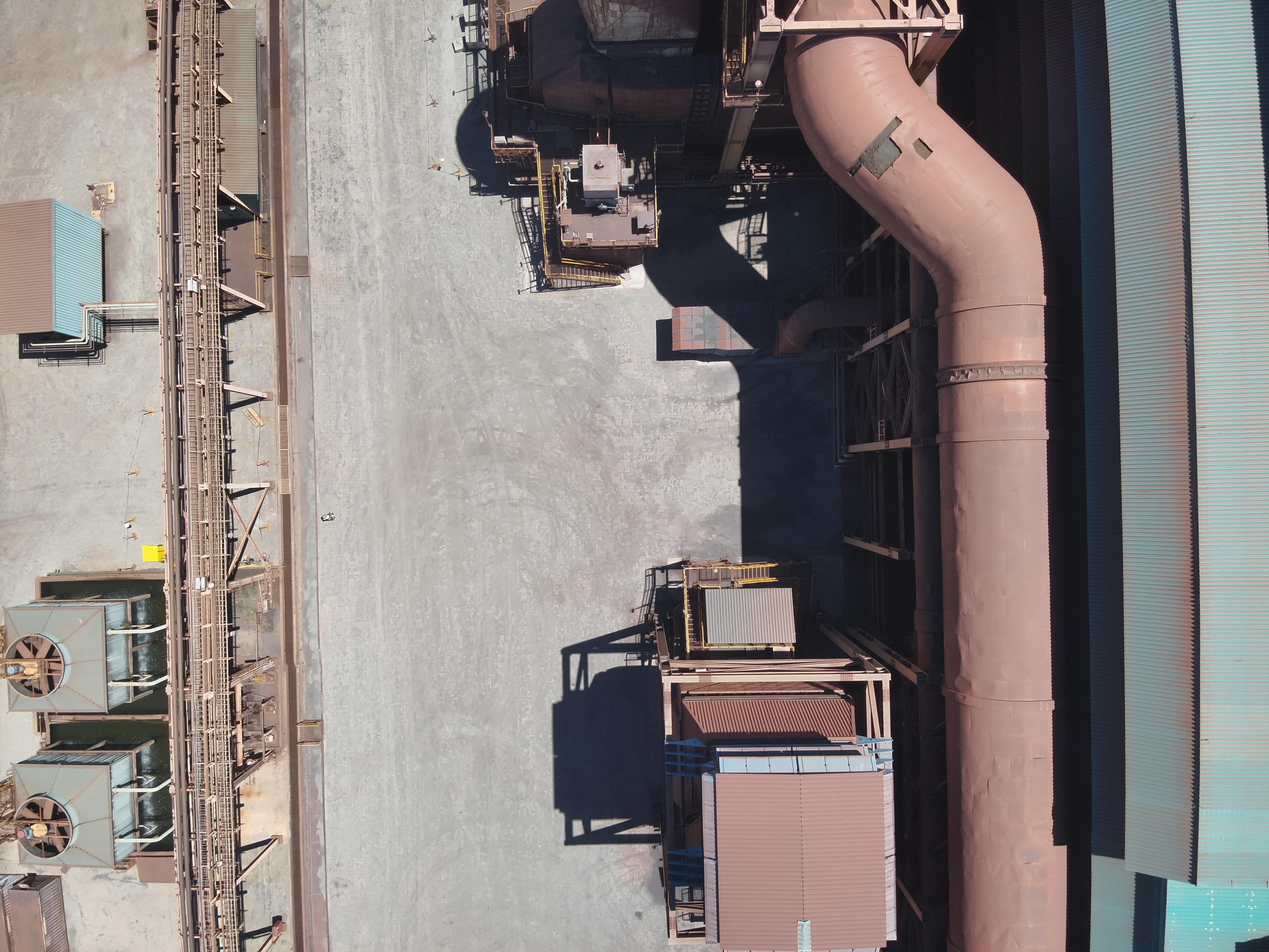Failures: (846, 116, 903, 180), (911, 137, 934, 162)
